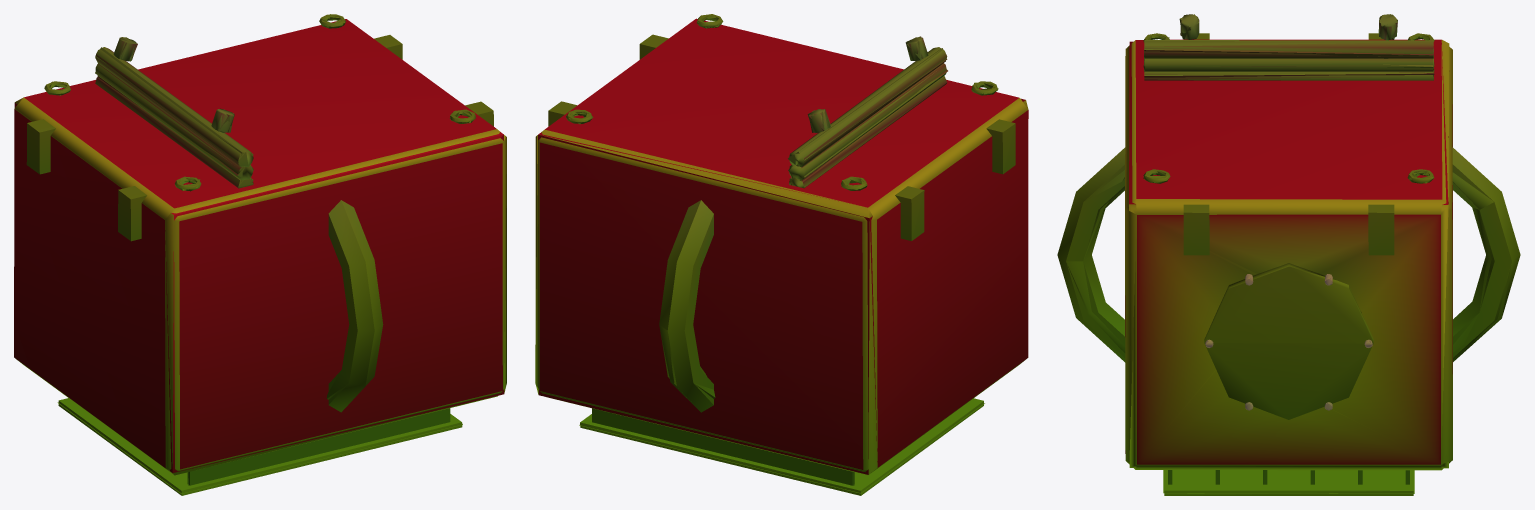
File: RCLModule_surge_tank_antimatter_containment_lattice_LODs.fbx
3 views of the same model, side by side, from view 1: azimuth 30°, elevation 25°; view 2: azimuth 150°, elevation 25°; view 3: azimuth 270°, elevation 25° (orthographic).
Visible parts, largest first — view 1: LOD1_RCLModule_surge_tank_antimatter_containment_lattice_Bat (×2), LOD2_RCLModule_surge_tank_antimatter_containment_lattice_Bat (×2); view 2: LOD1_RCLModule_surge_tank_antimatter_containment_lattice_Bat (×2), LOD2_RCLModule_surge_tank_antimatter_containment_lattice_Bat (×2); view 3: LOD1_RCLModule_surge_tank_antimatter_containment_lattice_Bat (×2), LOD2_RCLModule_surge_tank_antimatter_containment_lattice_Bat (×2).
Part boxes in pixels (bbox=[...]): LOD1_RCLModule_surge_tank_antimatter_containment_lattice_Bat (×2): bbox=[14, 14, 506, 495]; LOD2_RCLModule_surge_tank_antimatter_containment_lattice_Bat (×2): bbox=[14, 14, 506, 493]; LOD1_RCLModule_surge_tank_antimatter_containment_lattice_Bat (×2): bbox=[535, 14, 1028, 495]; LOD2_RCLModule_surge_tank_antimatter_containment_lattice_Bat (×2): bbox=[535, 14, 1028, 493]; LOD1_RCLModule_surge_tank_antimatter_containment_lattice_Bat (×2): bbox=[1057, 14, 1520, 495]; LOD2_RCLModule_surge_tank_antimatter_containment_lattice_Bat (×2): bbox=[1066, 14, 1520, 493].
Size of the model in its own units: 59.21 by 56.58 by 64.56.
